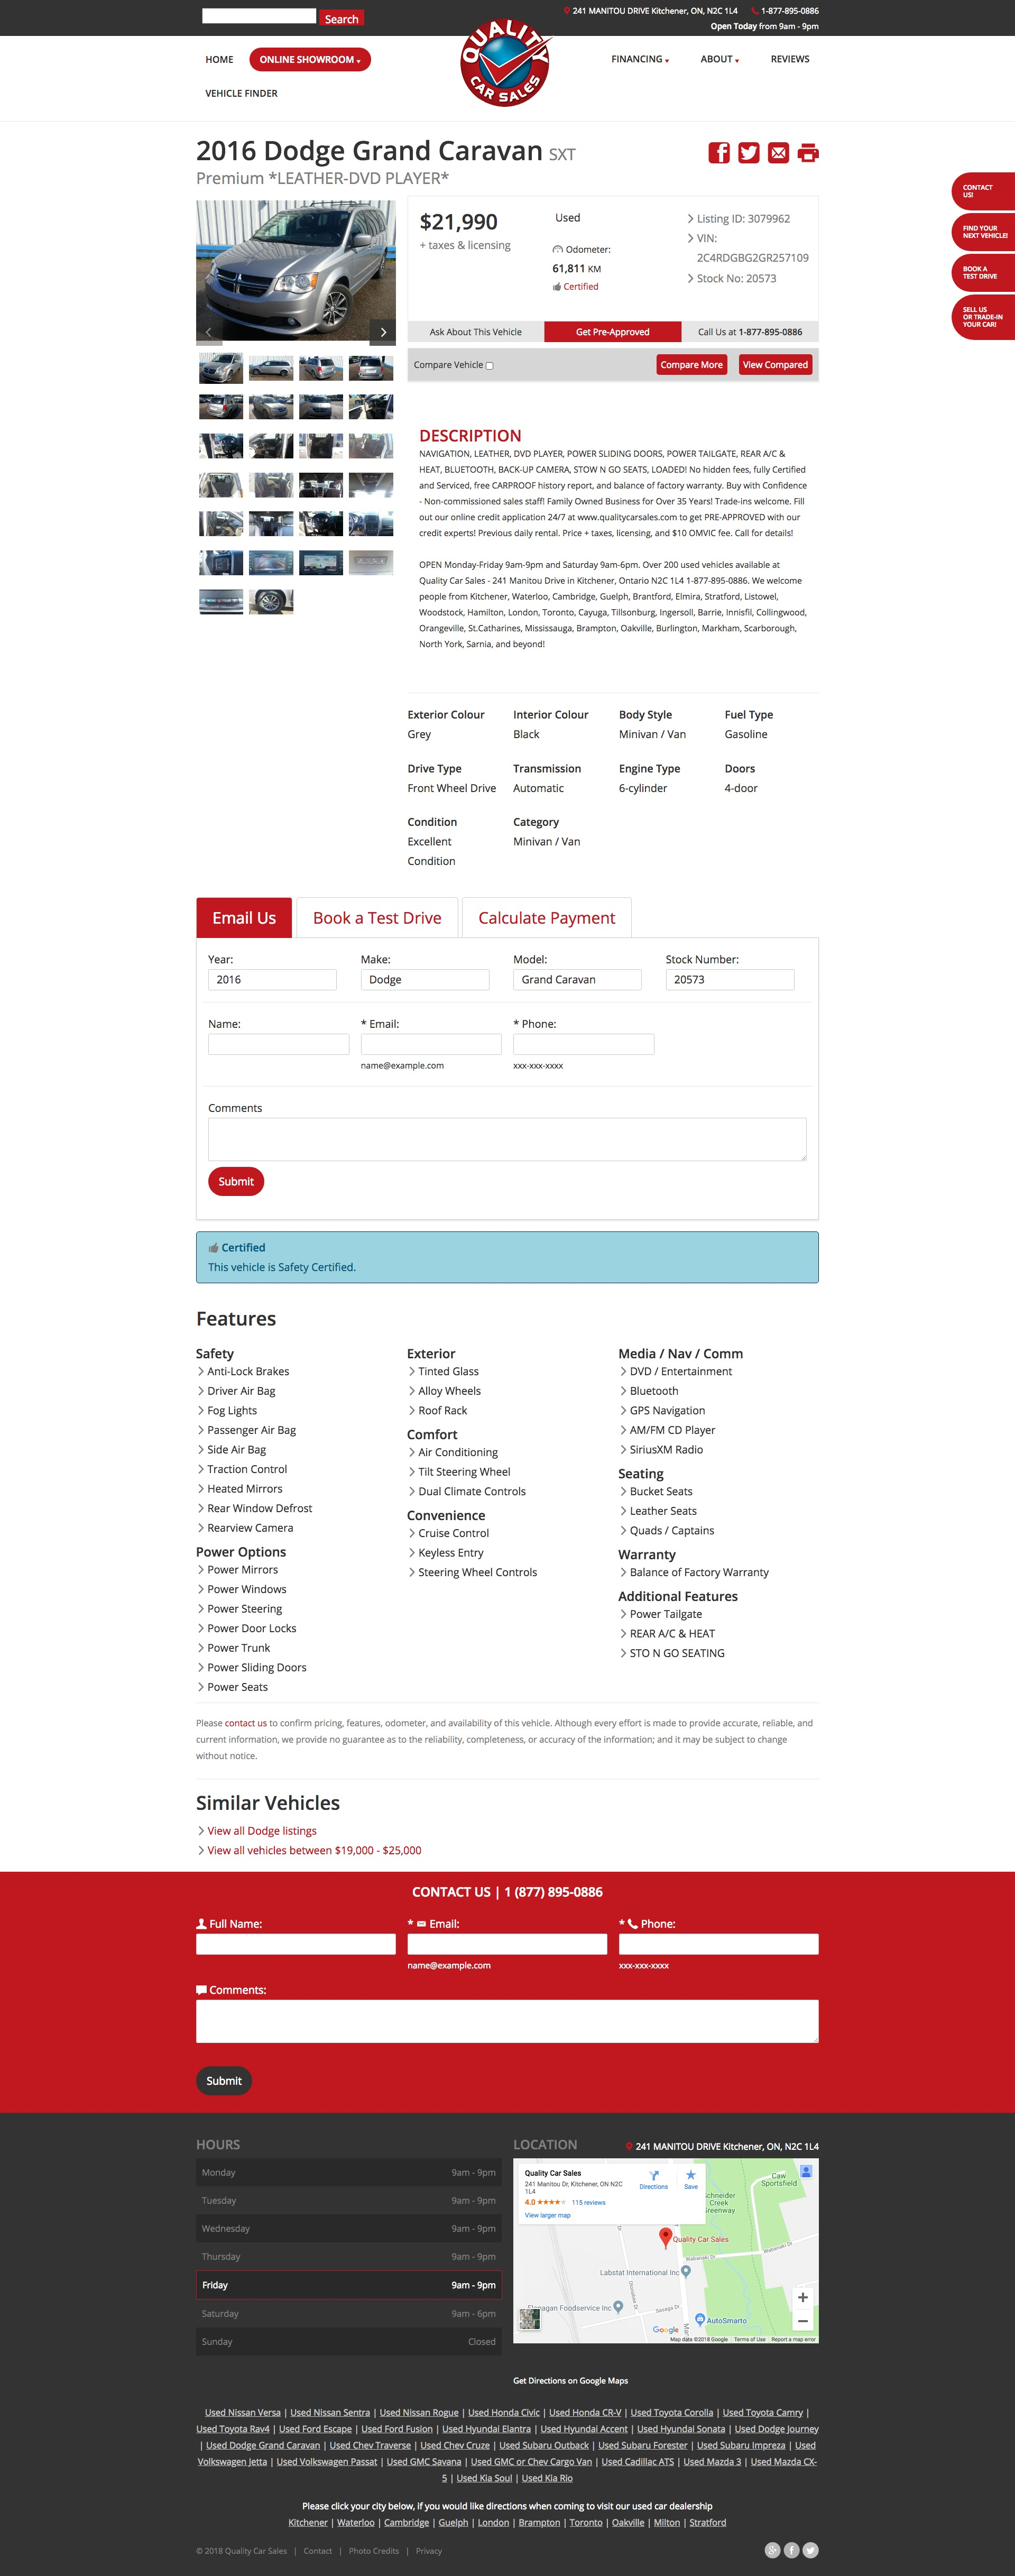car: (381, 327, 388, 338)
